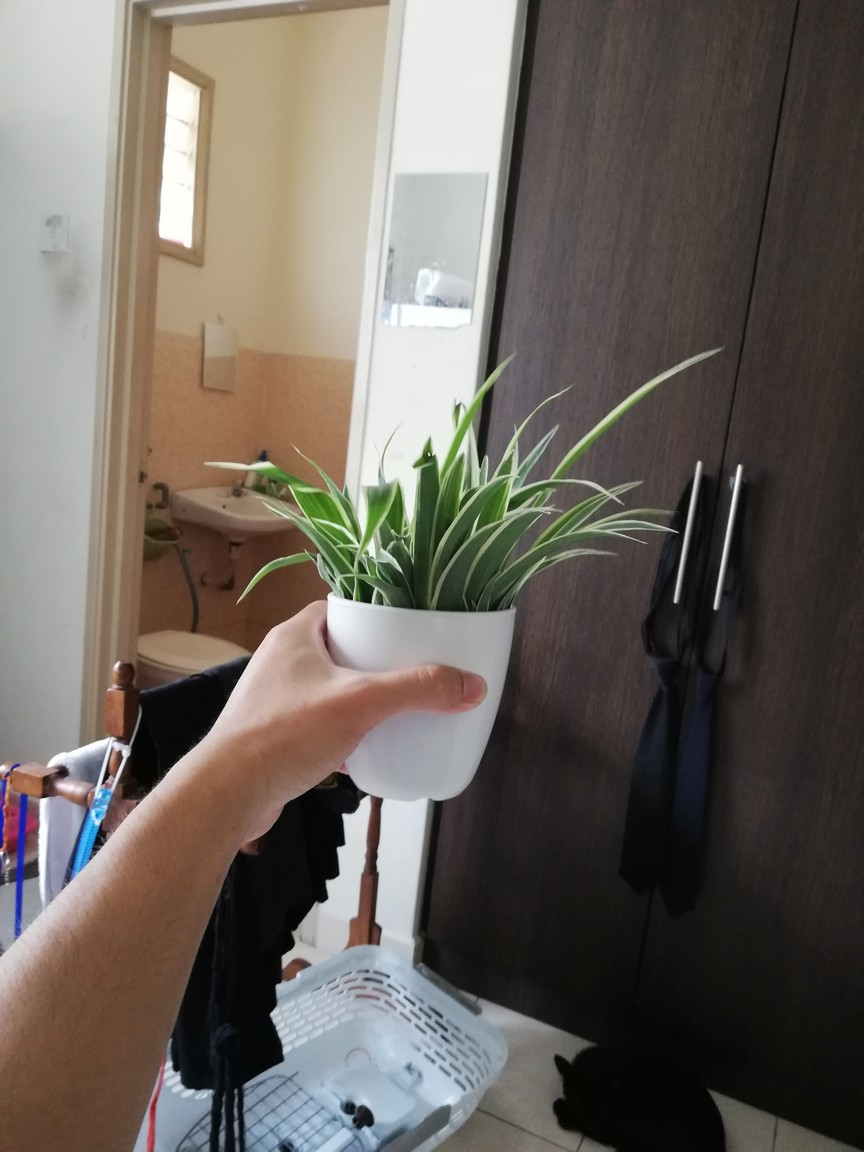daun: (576, 340, 731, 461), (237, 550, 307, 610), (459, 345, 519, 415), (200, 451, 289, 494), (354, 484, 398, 564), (288, 438, 344, 492), (335, 569, 407, 609), (250, 488, 307, 535), (563, 472, 624, 507), (521, 422, 560, 476), (538, 548, 624, 572), (528, 382, 577, 422), (308, 513, 356, 552), (439, 449, 470, 508), (598, 477, 653, 510), (549, 530, 660, 546), (378, 420, 405, 481), (477, 474, 528, 506), (415, 432, 441, 490), (587, 520, 681, 534), (479, 567, 503, 616), (335, 541, 367, 557), (477, 449, 491, 480), (260, 501, 280, 522), (512, 420, 520, 467), (469, 597, 478, 614)
